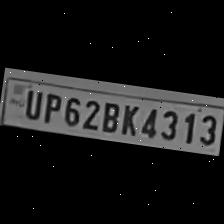1: (176, 108, 198, 145)
2: (78, 95, 101, 131)
3: (194, 110, 220, 148), (156, 106, 180, 142)
4: (137, 103, 161, 139)
6: (59, 94, 82, 128)
B: (98, 98, 121, 135)
K: (117, 101, 141, 138)
P: (40, 90, 62, 125)
U: (20, 86, 45, 122)
